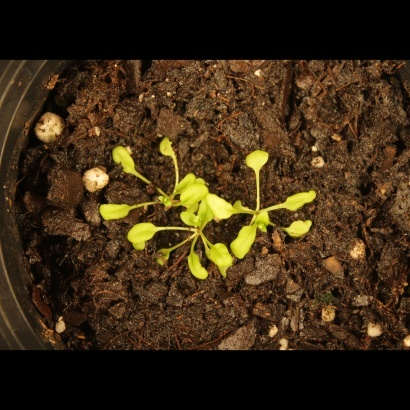leaf: (110, 142, 141, 180), (232, 220, 260, 262), (183, 246, 212, 286), (125, 219, 161, 251), (206, 187, 237, 224), (206, 239, 237, 274), (96, 198, 135, 225), (282, 189, 324, 214), (241, 141, 271, 173), (286, 216, 317, 245), (178, 183, 212, 209), (156, 131, 183, 161), (172, 171, 197, 194), (154, 246, 177, 269), (230, 194, 253, 217), (181, 208, 204, 231)
